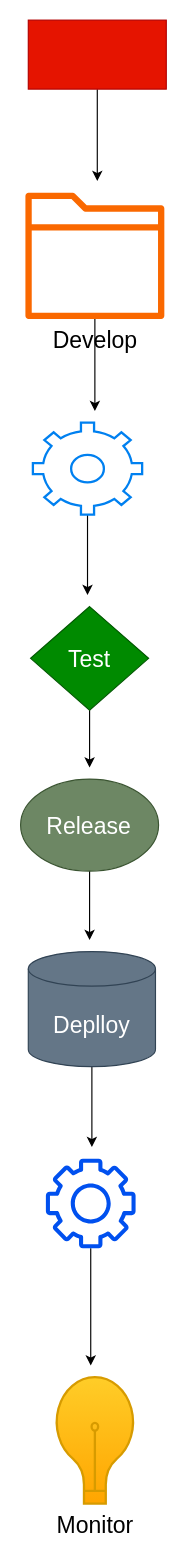
This 186x1559 diagram has some shape labels left out. Here are the shapes that lost their labels. From the top down, the centre of each, then its label:
At pixel 96 54: "Plan".
At pixel 87 468: "Build".
At pixel 90 1202: "Operator".
